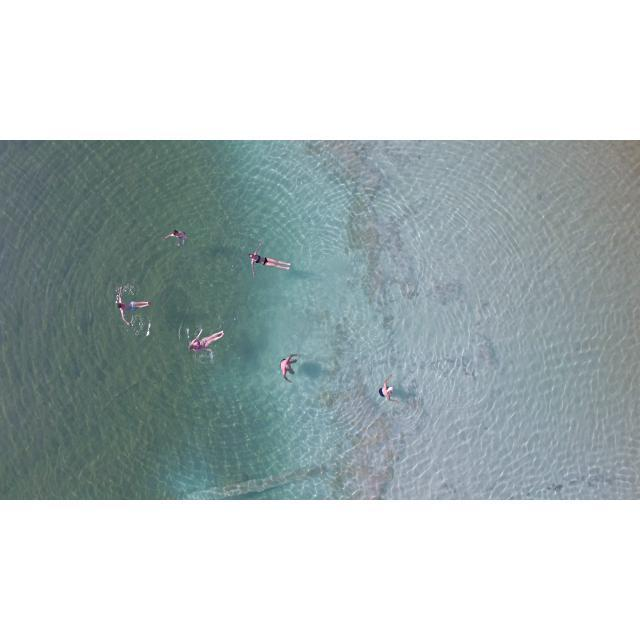human: (249, 243, 292, 275), (118, 288, 150, 327), (188, 330, 226, 359), (378, 376, 401, 405), (281, 355, 301, 384), (165, 228, 188, 244)
